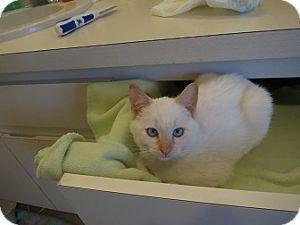siamese: (123, 79, 206, 167)
